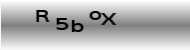5: (54, 17, 68, 30)
R: (35, 9, 50, 23)
X: (100, 12, 116, 25)
b: (70, 19, 83, 32)
o: (88, 10, 101, 20)
